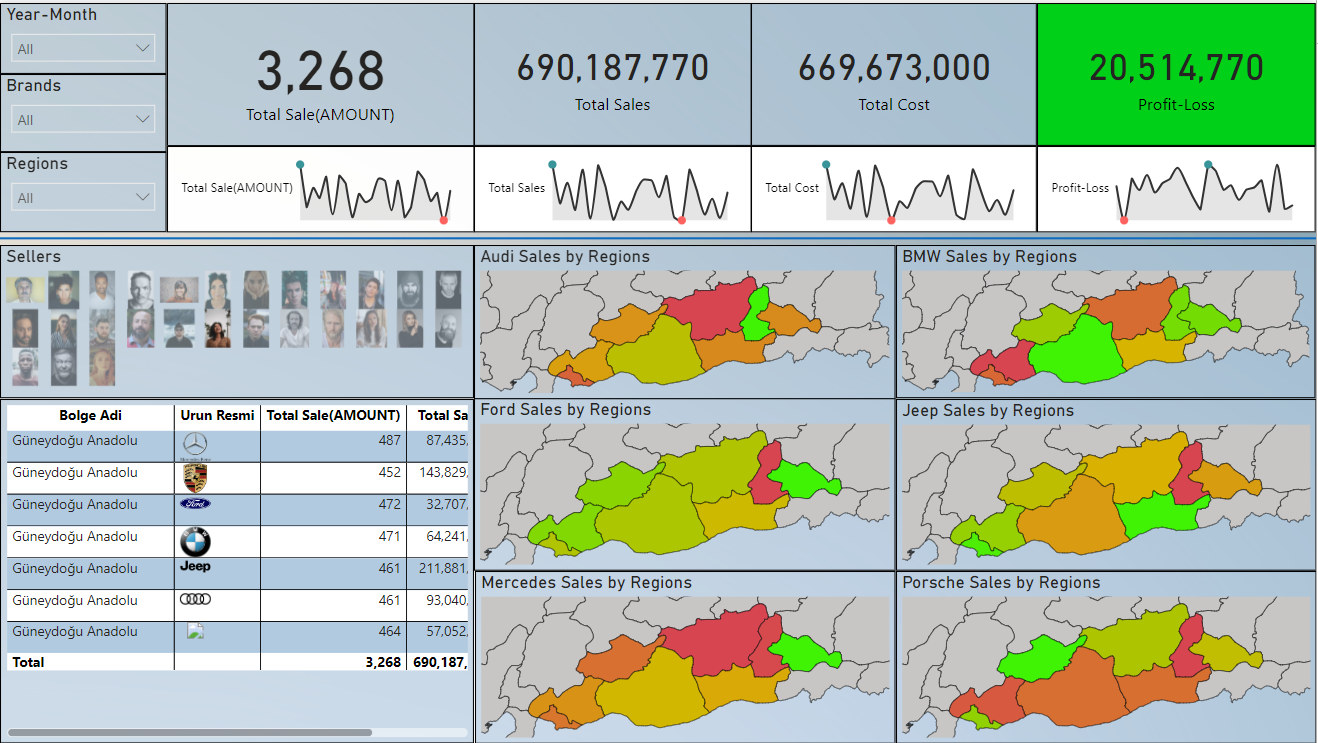

What the dashboard file says about the page in this screenshot:
{"tool":"powerbi","page":{"name":" Sales by Brands","canvas":[1280,720],"ordinal":1},"visuals":[{"type":"slicer","title":"Year-Month","fields":{"Values":["Satis Verileri.Yil-Ay"]},"box":[0,0,162.4,69.4],"z":0},{"type":"slicer","title":"Brands","fields":{"Values":["Urunler.Urun Adi"]},"box":[0,69.4,162.4,75.5],"z":1000},{"type":"card","fields":{"Values":["Measurements.Total Sale(AMOUNT)"]},"box":[162.4,0,298.5,138.7],"z":2000},{"type":"card","fields":{"Values":["Measurements.Total Sales"]},"box":[461,0,269.6,138.7],"z":3000},{"type":"card","fields":{"Values":["Measurements.Total Cost"]},"box":[730.5,0,278.3,138.7],"z":4000},{"type":"card","fields":{"Values":["Measurements.Profit-Loss"]},"box":[1008.9,0,271.3,138.7],"z":5000},{"type":"PBI_CV_25997FEB_F466_44FA_B562_AC4063283C4C","fields":{"axis":["Satis Verileri.Yil-Ay"],"measure":["Measurements.Total Sale(AMOUNT)"]},"box":[162.4,138.7,298.5,84.3],"z":6000},{"type":"PBI_CV_25997FEB_F466_44FA_B562_AC4063283C4C","fields":{"axis":["Satis Verileri.Yil-Ay"],"measure":["Measurements.Total Sales"]},"box":[461,138.7,269.6,84.3],"z":7000},{"type":"PBI_CV_25997FEB_F466_44FA_B562_AC4063283C4C","fields":{"axis":["Satis Verileri.Yil-Ay"],"measure":["Measurements.Total Cost"]},"box":[730.5,138.7,278.3,84.3],"z":8000},{"type":"PBI_CV_25997FEB_F466_44FA_B562_AC4063283C4C","fields":{"axis":["Satis Verileri.Yil-Ay"],"measure":["Measurements.Profit-Loss"]},"box":[1008.9,138.7,271.3,84.3],"z":9000},{"type":"shape","box":[0,223,1280.2,12.3],"z":10000},{"type":"tableEx","fields":{"Values":["Bolgeler.Bolge Adi","Urunler.Urun Resmi","Measurements.Total Sale(AMOUNT)","Measurements.Total Sales","Measurements.Total Cost"]},"box":[0,385.5,461,334.5],"z":11000},{"type":"slicer","title":"Regions","fields":{"Values":["Bolgeler.Bolge Adi"]},"box":[0,144.9,162.4,78.1],"z":12000},{"type":"ImageGrid_FC5183B9_926C_45E0_B5F7_0CE9EAF1DA9B","title":"Sellers","fields":{"ImageURLHQ":["Saticilar.Fotograf Linki"]},"box":[0,235.3,461,149.3],"z":13000},{"type":"shapeMap","title":"Jeep Sales by Regions","fields":{"Category":["Satis Verileri.Satis Merkezi"],"Value":["Measurements.Total Sales"]},"box":[871,385.5,409.2,166.8],"z":14000},{"type":"shapeMap","title":"Porsche Sales by Regions","fields":{"Category":["Satis Verileri.Satis Merkezi"],"Value":["Measurements.Total Sales"]},"box":[871,552.3,409.2,167.7],"z":15000},{"type":"shapeMap","title":"Ford Sales by Regions","fields":{"Category":["Satis Verileri.Satis Merkezi"],"Value":["Measurements.Total Sales"]},"box":[461,384.6,410,167.7],"z":16000},{"type":"shapeMap","title":"Mercedes Sales by Regions","fields":{"Category":["Satis Verileri.Satis Merkezi"],"Value":["Measurements.Total Sales"]},"box":[461.9,552.3,409.2,167.7],"z":17000},{"type":"shapeMap","title":"BMW Sales by Regions","fields":{"Category":["Satis Verileri.Satis Merkezi"],"Value":["Measurements.Total Sales"]},"box":[871,235.3,408.3,149.3],"z":18000},{"type":"shapeMap","title":"Audi Sales by Regions","fields":{"Category":["Satis Verileri.Satis Merkezi"],"Value":["Measurements.Total Sales"]},"box":[461,235.3,410,150.1],"z":19000}]}

Visuals, with their boxes in screenshot pixels (x1, y1, x2, y2), scaled from the page's 1280x720 canvas onto the 1318x743 screenshot:
"Year-Month" slicer: region(0, 0, 167, 72)
"Brands" slicer: region(0, 72, 167, 150)
card - Measurements.Total Sale(AMOUNT): region(167, 0, 475, 143)
card - Measurements.Total Sales: region(475, 0, 752, 143)
card - Measurements.Total Cost: region(752, 0, 1039, 143)
card - Measurements.Profit-Loss: region(1039, 0, 1317, 143)
PBI_CV_25997FEB_F466_44FA_B562_AC4063283C4C - Satis Verileri.Yil-Ay x Measurements.Total Sale(AMOUNT): region(167, 143, 475, 230)
PBI_CV_25997FEB_F466_44FA_B562_AC4063283C4C - Satis Verileri.Yil-Ay x Measurements.Total Sales: region(475, 143, 752, 230)
PBI_CV_25997FEB_F466_44FA_B562_AC4063283C4C - Satis Verileri.Yil-Ay x Measurements.Total Cost: region(752, 143, 1039, 230)
PBI_CV_25997FEB_F466_44FA_B562_AC4063283C4C - Satis Verileri.Yil-Ay x Measurements.Profit-Loss: region(1039, 143, 1317, 230)
shape: region(0, 230, 1317, 243)
tableEx - Bolgeler.Bolge Adi x Urunler.Urun Resmi: region(0, 398, 475, 742)
"Regions" slicer: region(0, 150, 167, 230)
"Sellers" ImageGrid_FC5183B9_926C_45E0_B5F7_0CE9EAF1DA9B: region(0, 243, 475, 397)
"Jeep Sales by Regions" shapeMap: region(897, 398, 1317, 570)
"Porsche Sales by Regions" shapeMap: region(897, 570, 1317, 742)
"Ford Sales by Regions" shapeMap: region(475, 397, 897, 570)
"Mercedes Sales by Regions" shapeMap: region(476, 570, 897, 742)
"BMW Sales by Regions" shapeMap: region(897, 243, 1317, 397)
"Audi Sales by Regions" shapeMap: region(475, 243, 897, 398)
